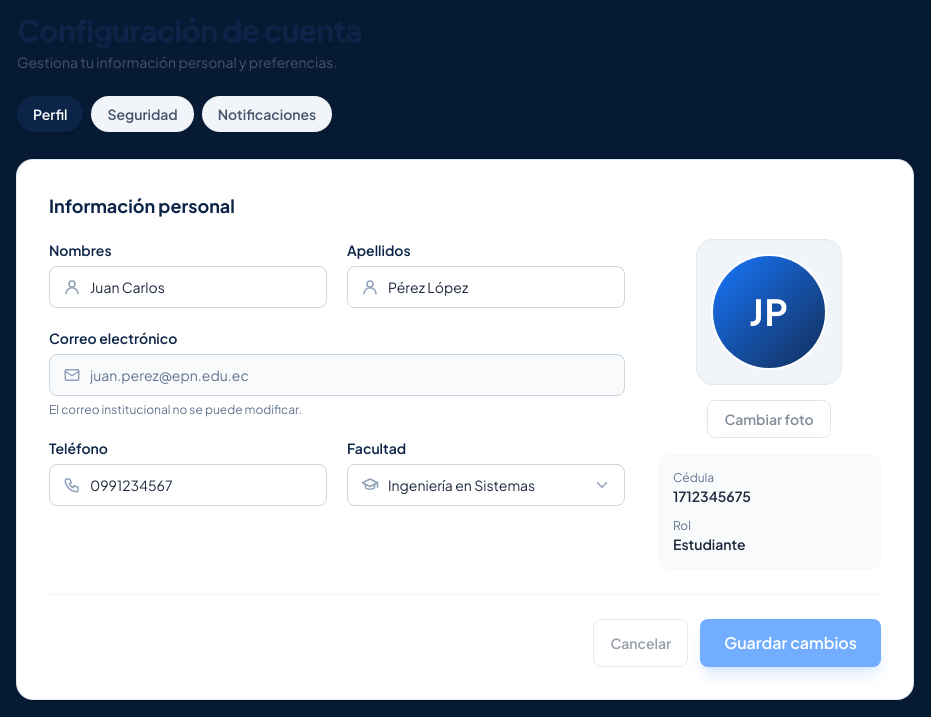
Test: Perfil (HU-002) › la pestaña Seguridad muestra el cambio de contraseña
The width and height of the screenshot is (931, 717).
Expected: the field labelled "Contraseña actual" is not shown
Click the tab "Seguridad". click: [143, 114]
box: [91,96,194,132]
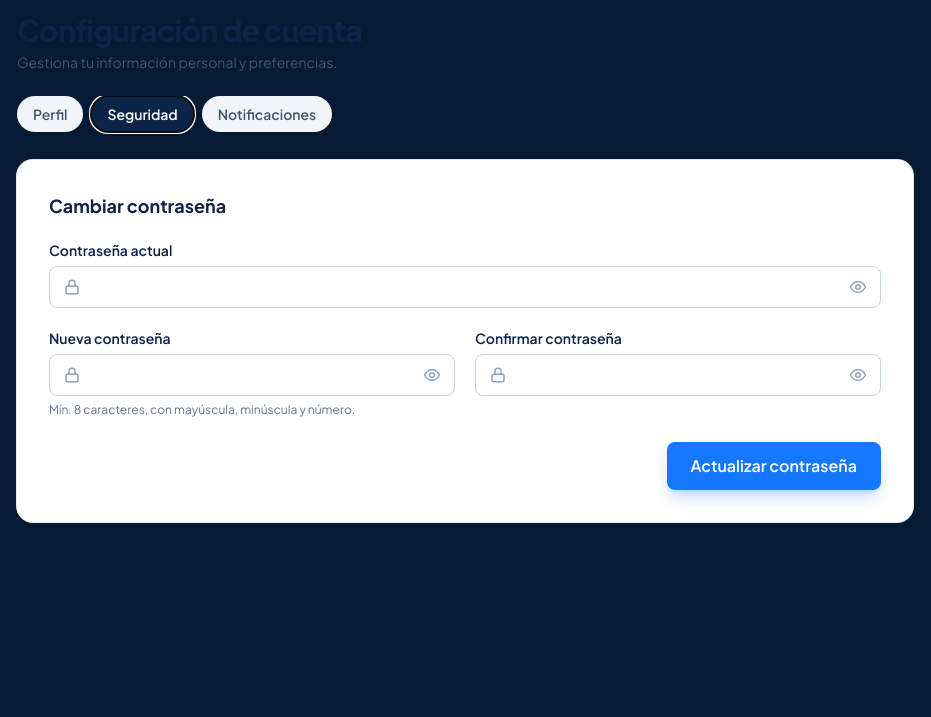
Expected: the password field labelled "Contraseña actual" is shown, [49,266,881,308]
Expected: the label labelled "Teléfono" is gone
